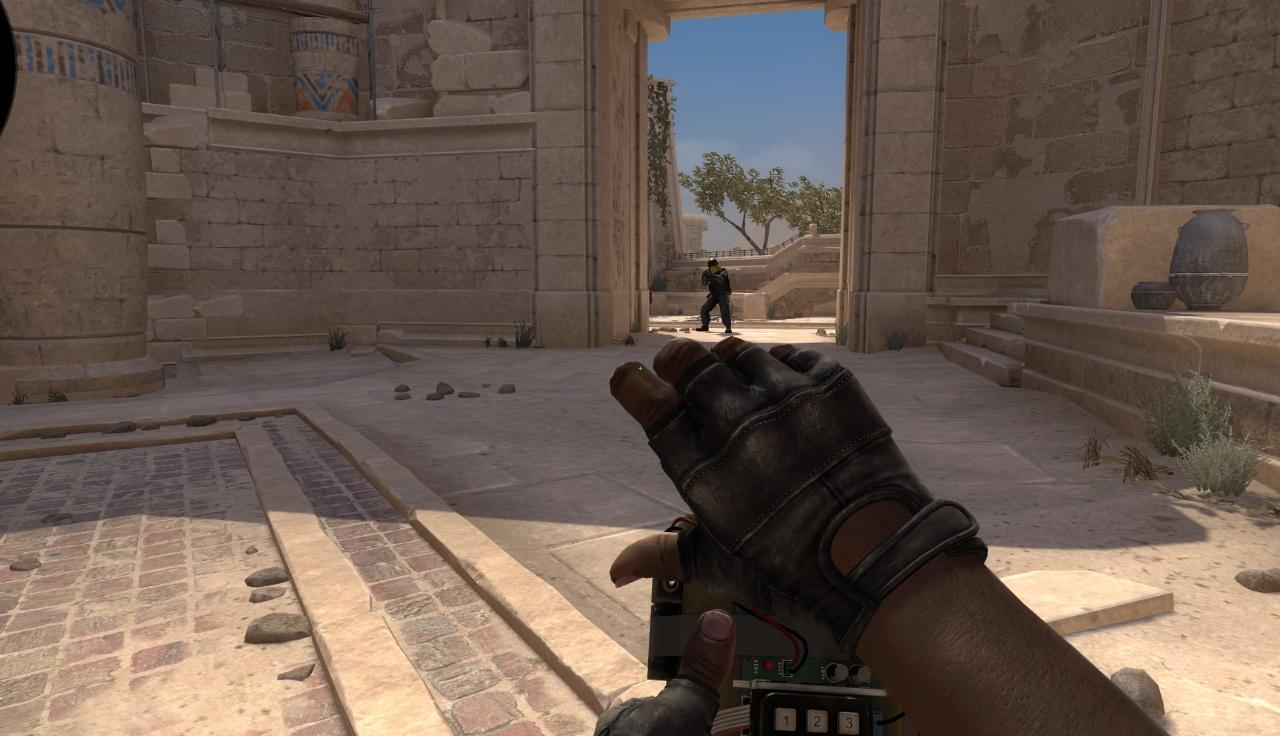ct: (704, 257, 730, 332)
cthead: (708, 256, 719, 270)
